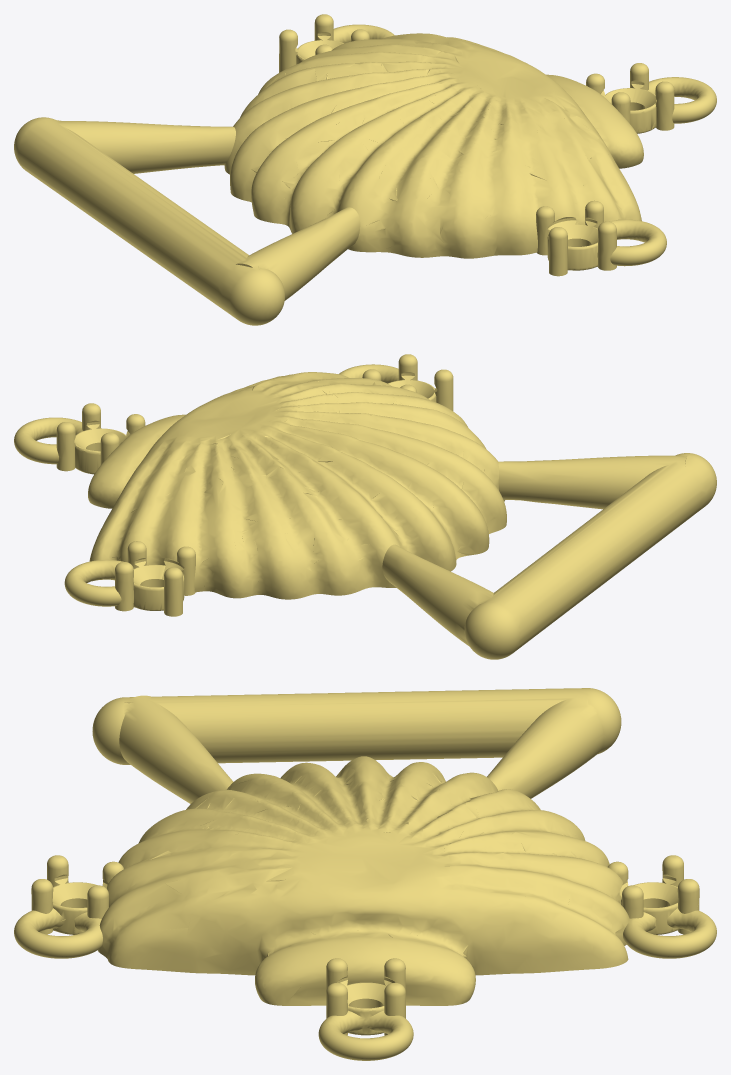
Rendered from shell_01_of_hollow_of_bool.glb.
3 views of the same model, one above another, from view 1: azimuth 30°, elevation 25°; view 2: azimuth 150°, elevation 25°; view 3: azimuth 270°, elevation 25° (orthographic). The views are drawn at different scales.
Parts seen in each view (by area): view 1: Renderer Node; view 2: Renderer Node; view 3: Renderer Node.
Part boxes in pixels (left/top/right/bottom): Renderer Node: left=14, top=14, right=716, bottom=325; Renderer Node: left=14, top=354, right=716, bottom=659; Renderer Node: left=14, top=688, right=716, bottom=1060.
Size of the model in its own units: 17.35 by 2.59 by 15.51.
